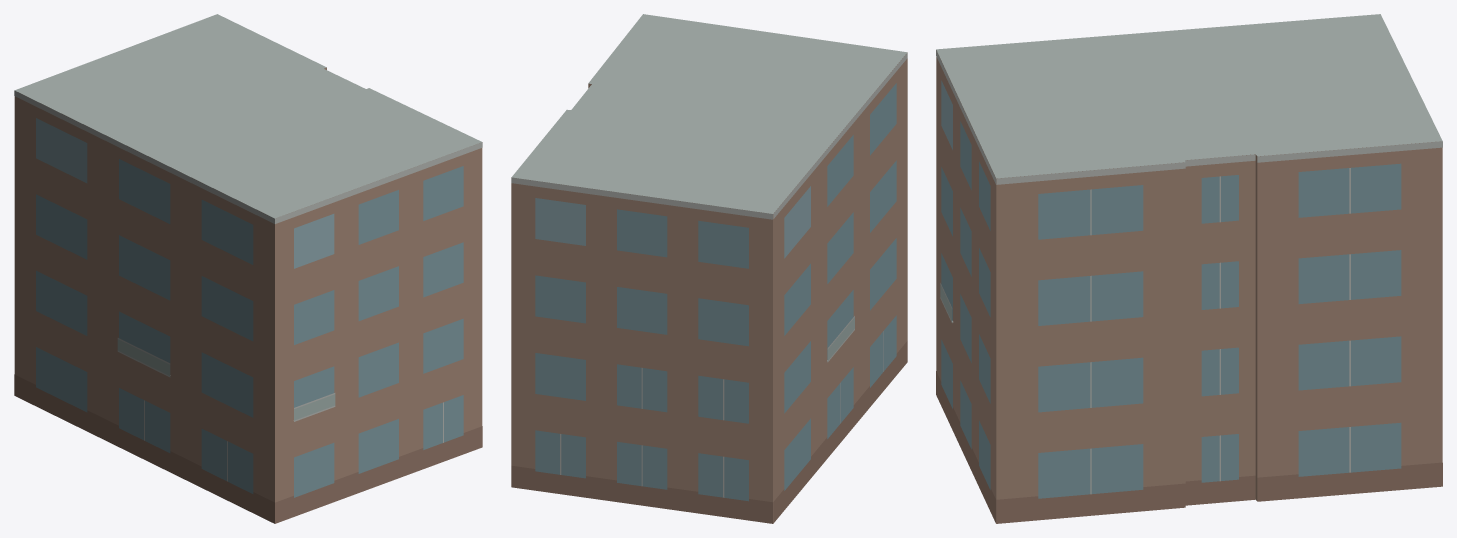
Rendered from survey-upis-32628599.glb.
3 views of the same model, side by side, from view 1: azimuth 30°, elevation 25°; view 2: azimuth 150°, elevation 25°; view 3: azimuth 270°, elevation 25° (orthographic). The views are drawn at different scales.
Parts seen in each view (by area): view 1: survey-upis-32628599.tmp; view 2: survey-upis-32628599.tmp; view 3: survey-upis-32628599.tmp.
Boxes of the visible parts, x1=… form: survey-upis-32628599.tmp: x1=14, y1=14, x2=482, y2=523; survey-upis-32628599.tmp: x1=511, y1=14, x2=907, y2=523; survey-upis-32628599.tmp: x1=936, y1=14, x2=1442, y2=523.
Bounding box in the file's own units: 13.44 × 13.15 × 17.49.
